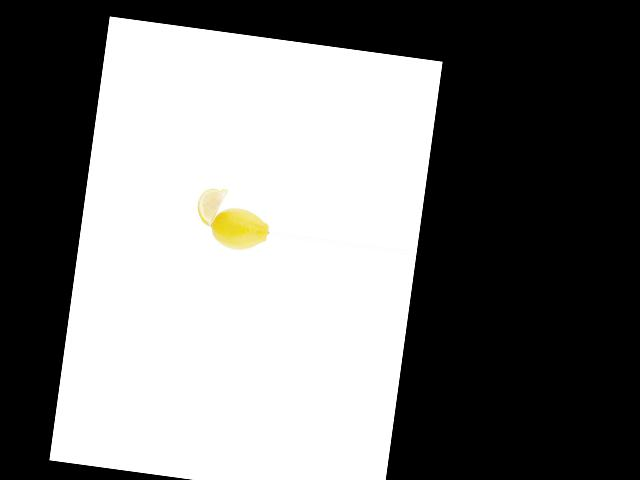lemon: (205, 201, 273, 255)
